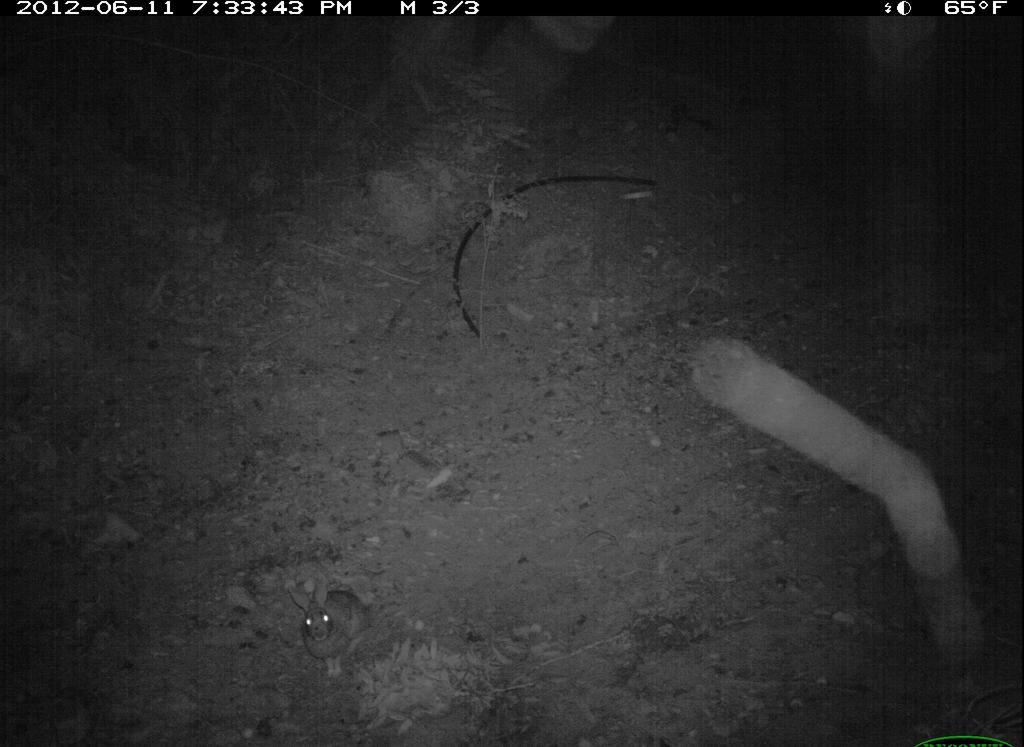rabbit: (283, 565, 391, 692)
